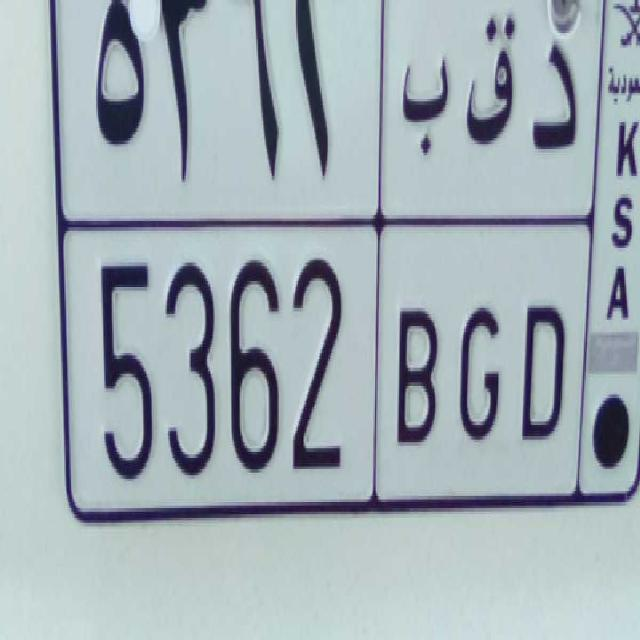license_plate: (64, 210, 584, 502)
